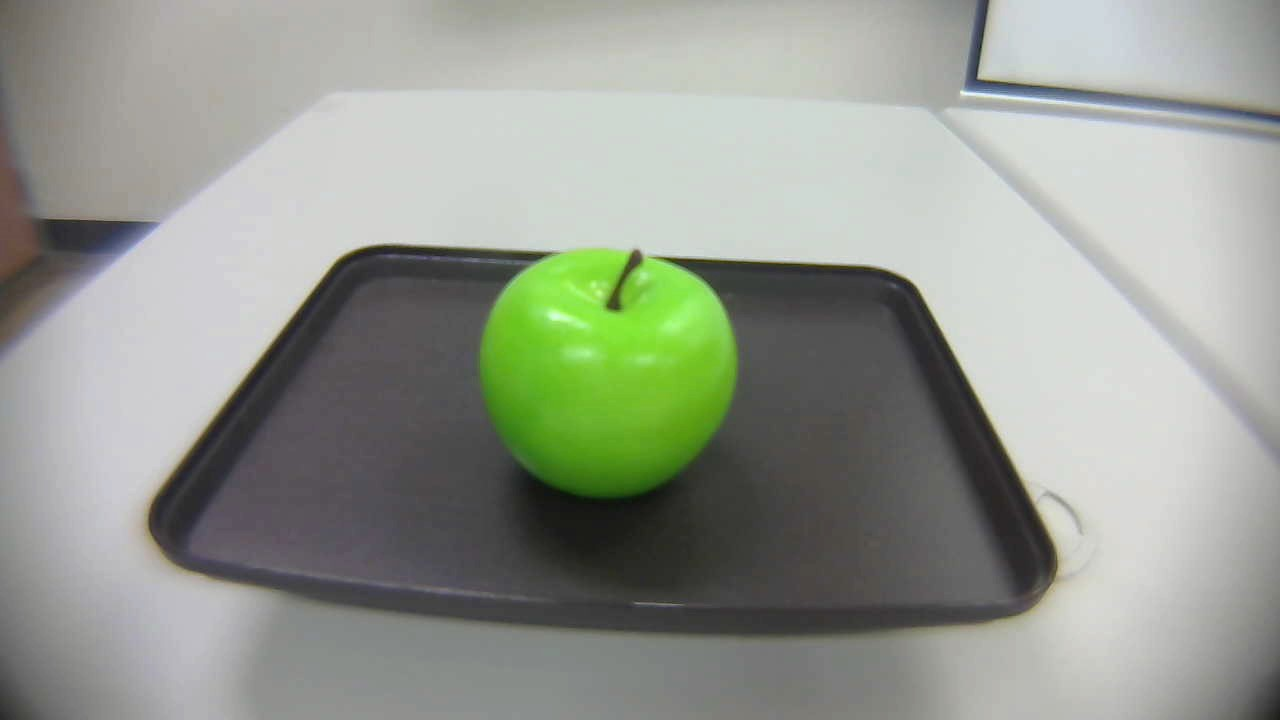green apple: (481, 250, 741, 505)
